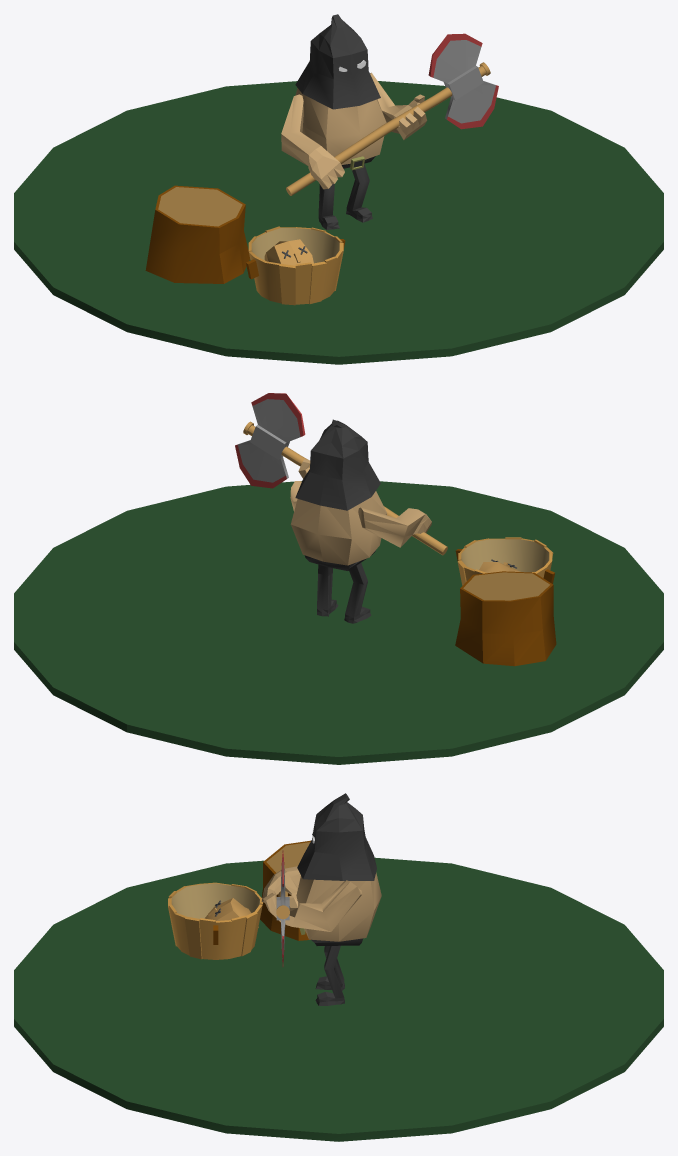
File: verdugo.glb
3 views of the same model, one above another, from view 1: azimuth 30°, elevation 25°; view 2: azimuth 150°, elevation 25°; view 3: azimuth 270°, elevation 25° (orthographic).
Visible parts, largest first — view 1: 3DSMeshMatrix (×12); view 2: 3DSMeshMatrix (×10); view 3: 3DSMeshMatrix (×10).
Part boxes in pixels (x1=…): 3DSMeshMatrix (×12): x1=14, y1=14, x2=663, y2=364; 3DSMeshMatrix (×10): x1=14, y1=393, x2=663, y2=764; 3DSMeshMatrix (×10): x1=14, y1=793, x2=663, y2=1141.
Size of the model in its own units: 3.43 by 1.21 by 3.38.
